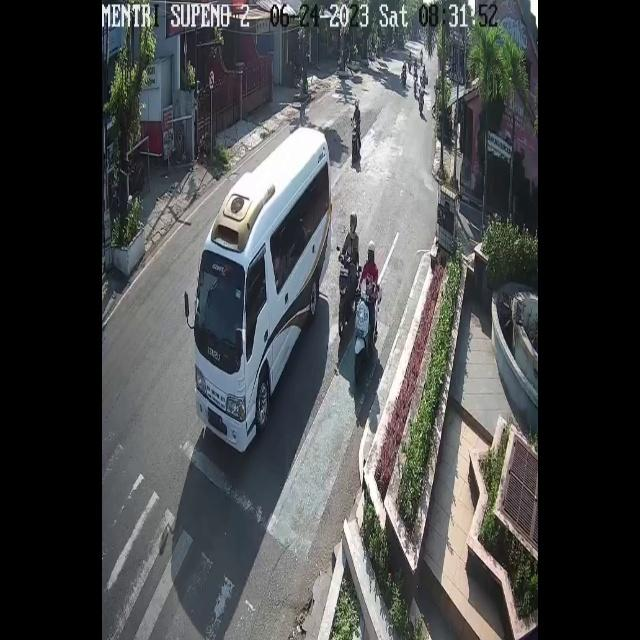bus: (352, 283, 381, 396), (337, 253, 359, 346), (351, 124, 363, 169), (418, 88, 426, 116)
car: (195, 126, 332, 451)
